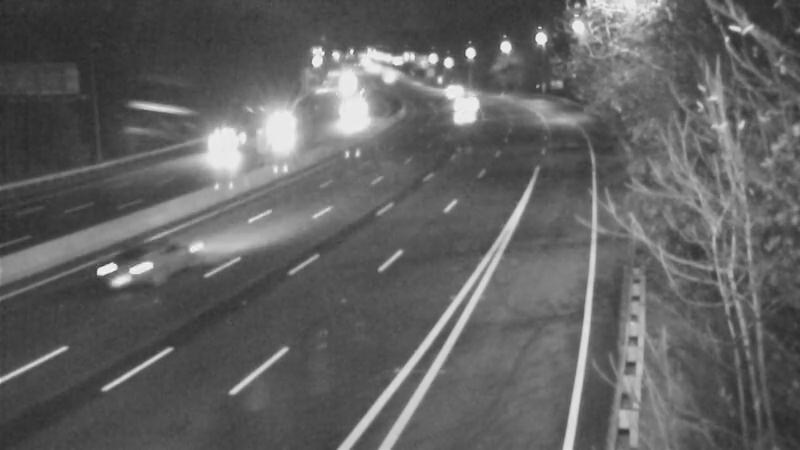vehicle: (90, 227, 170, 307), (427, 67, 477, 117), (439, 80, 489, 130), (440, 95, 490, 145), (199, 119, 249, 169), (255, 106, 305, 156), (325, 92, 375, 142)
